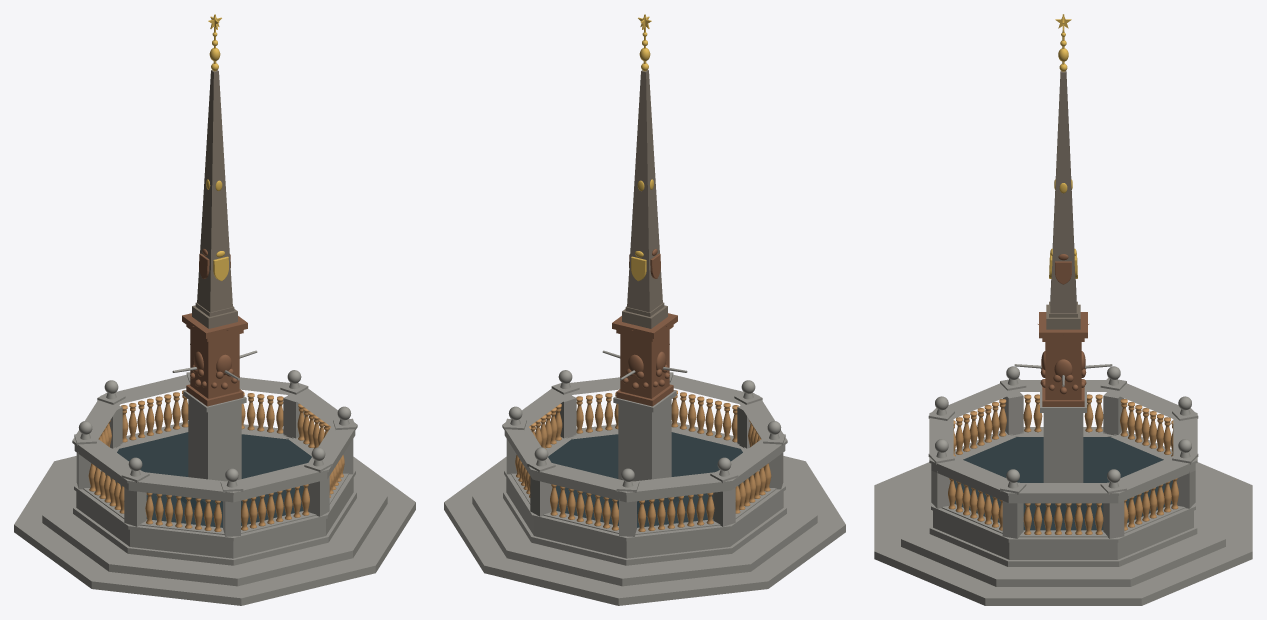
The model's file is obeliskbrunnen_quelle.glb.
3 renders of one model, left to right at view 1: azimuth 30°, elevation 25°; view 2: azimuth 150°, elevation 25°; view 3: azimuth 270°, elevation 25°, orthographic.
Parts seen in each view (by area): view 1: step_lower, step_upper, handrail_cap, water_surface, basin_wall, obelisk_shaft, pedestal_shaft, post_shaft (×4), basin_wall_cap, handrail, basin_wall_base, carved_block (+3 smaller); view 2: step_lower, step_upper, handrail_cap, water_surface, basin_wall, obelisk_shaft, pedestal_shaft, post_shaft (×4), basin_wall_cap, handrail, basin_wall_base, carved_block (+3 smaller); view 3: step_lower, step_upper, handrail_cap, water_surface, basin_wall, post_shaft (×6), obelisk_shaft, pedestal_shaft, basin_wall_cap, handrail, basin_wall_base, rail_plinth (+3 smaller).
Boxes of the visible parts, x1=… form: step_lower: x1=14, y1=456, x2=415, y2=605; step_upper: x1=42, y1=461, x2=387, y2=586; handrail_cap: x1=72, y1=374, x2=357, y2=495; water_surface: x1=105, y1=432, x2=311, y2=527; basin_wall: x1=76, y1=431, x2=353, y2=558; obelisk_shaft: x1=197, y1=70, x2=232, y2=312; pedestal_shaft: x1=188, y1=399, x2=241, y2=481; post_shaft (×4): x1=124, y1=395, x2=329, y2=536; basin_wall_cap: x1=74, y1=421, x2=355, y2=541; handrail: x1=74, y1=386, x2=355, y2=502; basin_wall_base: x1=73, y1=490, x2=356, y2=565; carved_block: x1=190, y1=330, x2=239, y2=398; step_lower: x1=444, y1=456, x2=845, y2=605; step_upper: x1=472, y1=461, x2=817, y2=586; handrail_cap: x1=502, y1=374, x2=787, y2=495; water_surface: x1=548, y1=432, x2=754, y2=527; basin_wall: x1=506, y1=431, x2=783, y2=558; obelisk_shaft: x1=627, y1=70, x2=662, y2=312; pedestal_shaft: x1=618, y1=399, x2=671, y2=481; post_shaft (×4): x1=530, y1=395, x2=735, y2=536; basin_wall_cap: x1=504, y1=421, x2=785, y2=541; handrail: x1=504, y1=386, x2=785, y2=502; basin_wall_base: x1=503, y1=490, x2=786, y2=565; carved_block: x1=620, y1=330, x2=669, y2=398; step_lower: x1=874, y1=462, x2=1252, y2=605; step_upper: x1=901, y1=469, x2=1225, y2=586; handrail_cap: x1=929, y1=380, x2=1197, y2=495; water_surface: x1=954, y1=437, x2=1172, y2=530; basin_wall: x1=933, y1=436, x2=1193, y2=559; post_shaft (×6): x1=931, y1=392, x2=1195, y2=538; obelisk_shaft: x1=1050, y1=70, x2=1076, y2=313; pedestal_shaft: x1=1043, y1=413, x2=1083, y2=482; basin_wall_cap: x1=931, y1=427, x2=1195, y2=542; handrail: x1=931, y1=390, x2=1195, y2=503; basin_wall_base: x1=929, y1=481, x2=1197, y2=566; rail_plinth: x1=941, y1=428, x2=1185, y2=537.
Bounding box in the file's own units: 7.1 × 10.6 × 7.1.
